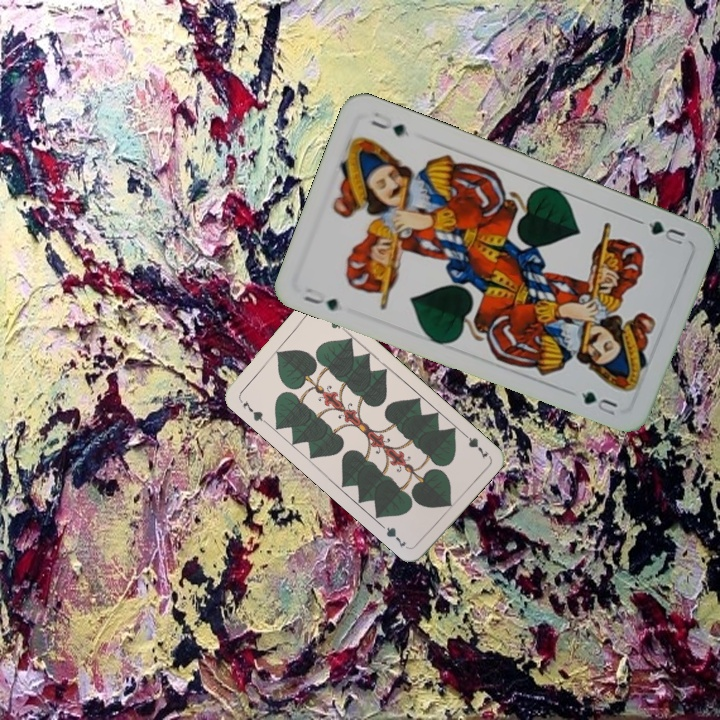G7: (458, 428, 491, 461), (238, 397, 269, 426)
GU: (644, 216, 688, 248), (299, 283, 341, 314)
